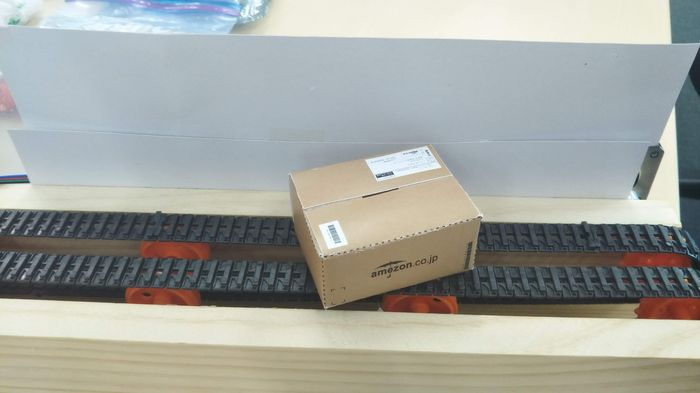box1: (285, 142, 483, 311)
